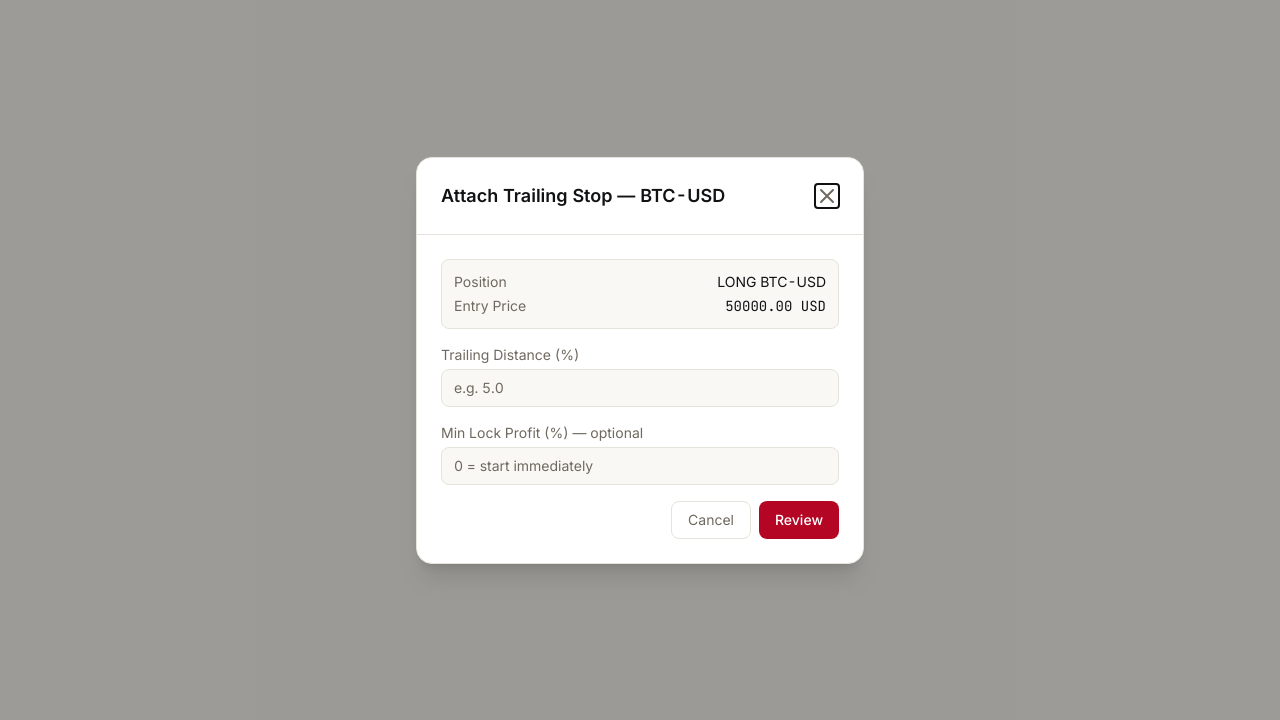
Test case: AttachTrailingStopModal › shows validation error for zero trailing pct
Step 1. Type "0" into the number field with test id "trailing-pct-input" → (640, 388), box [441,368,839,406]
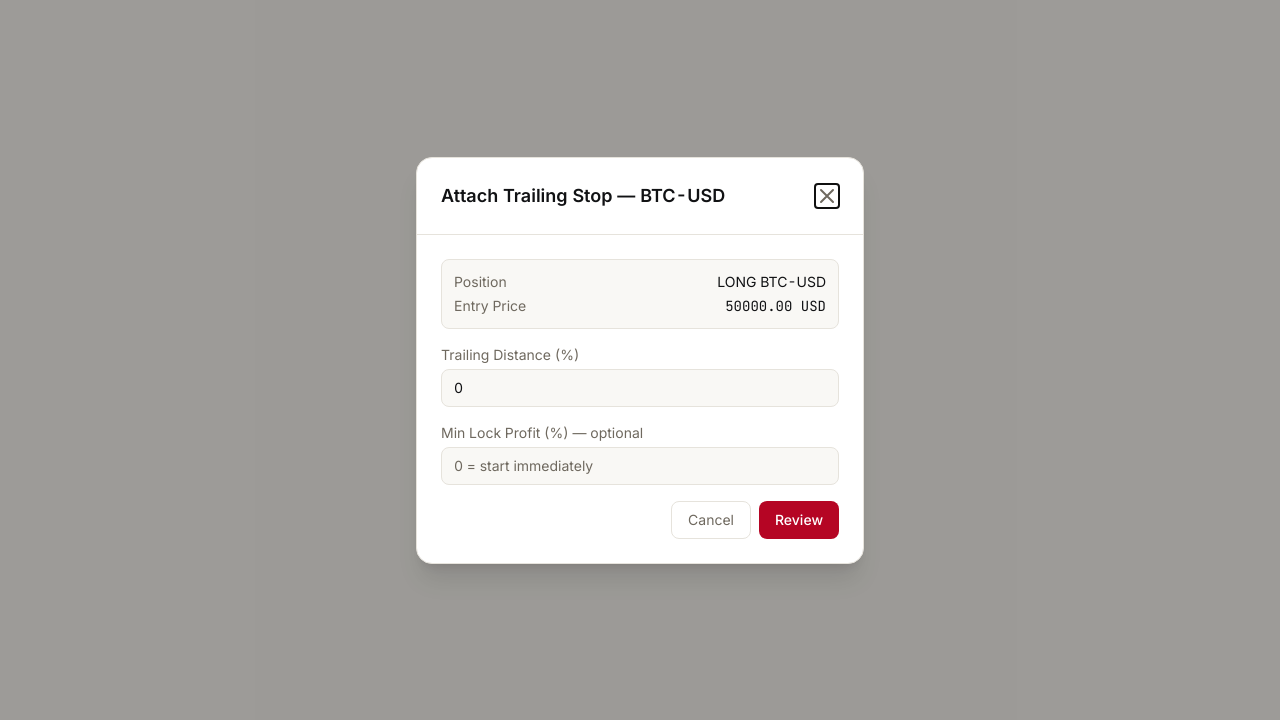
Step 2. Click the button with test id "trailing-stop-submit" → (799, 520), box [759,500,839,538]
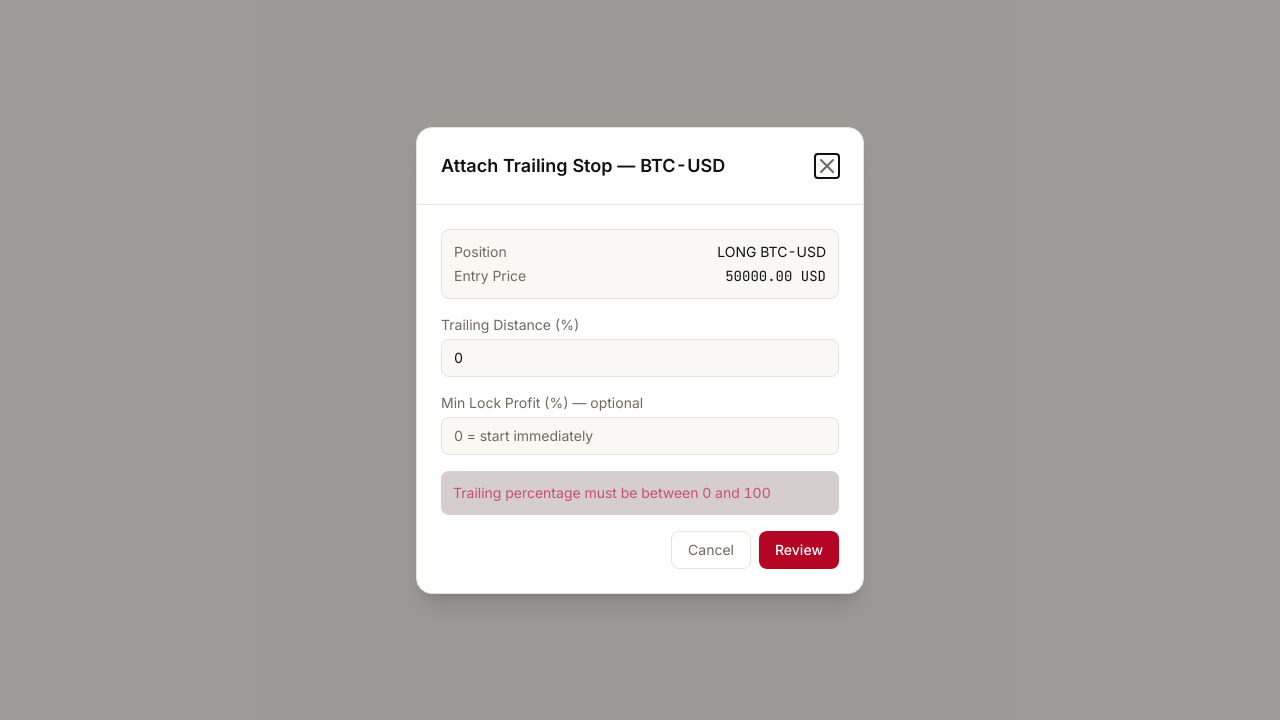
expect the text with test id "trailing-stop-error" reads "Trailing percentage must be between 0 and 100": met, box [453,484,771,500]
